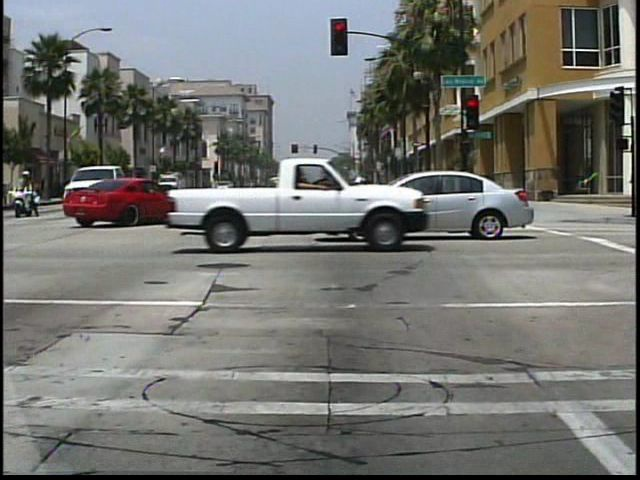person: (11, 170, 45, 220)
